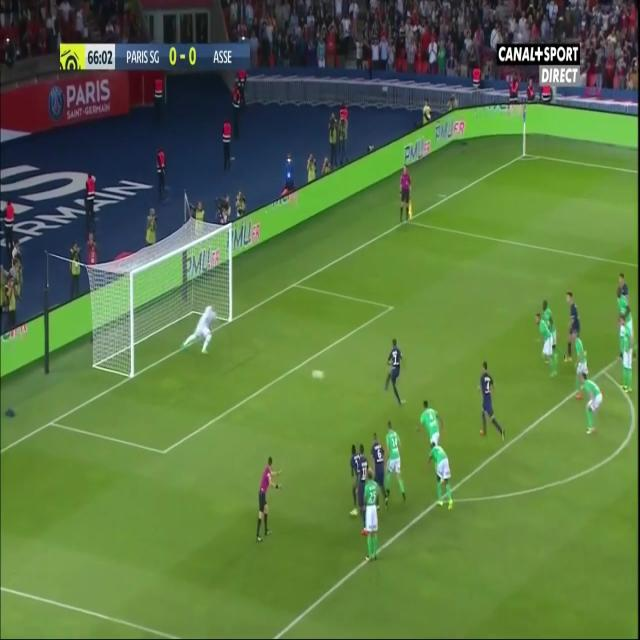Ball: (310, 363, 325, 381)
Goalkeeper: (179, 300, 218, 356)
Player: (478, 362, 507, 444), (383, 419, 409, 502), (426, 443, 454, 514), (381, 333, 404, 413), (363, 469, 380, 565), (580, 370, 604, 436), (534, 312, 556, 376), (564, 284, 582, 362), (370, 430, 388, 507), (415, 398, 445, 443), (571, 329, 588, 402), (619, 316, 634, 398), (348, 444, 360, 518), (541, 295, 558, 347), (358, 442, 368, 484)
Referee: (254, 452, 283, 544), (398, 162, 414, 225)
